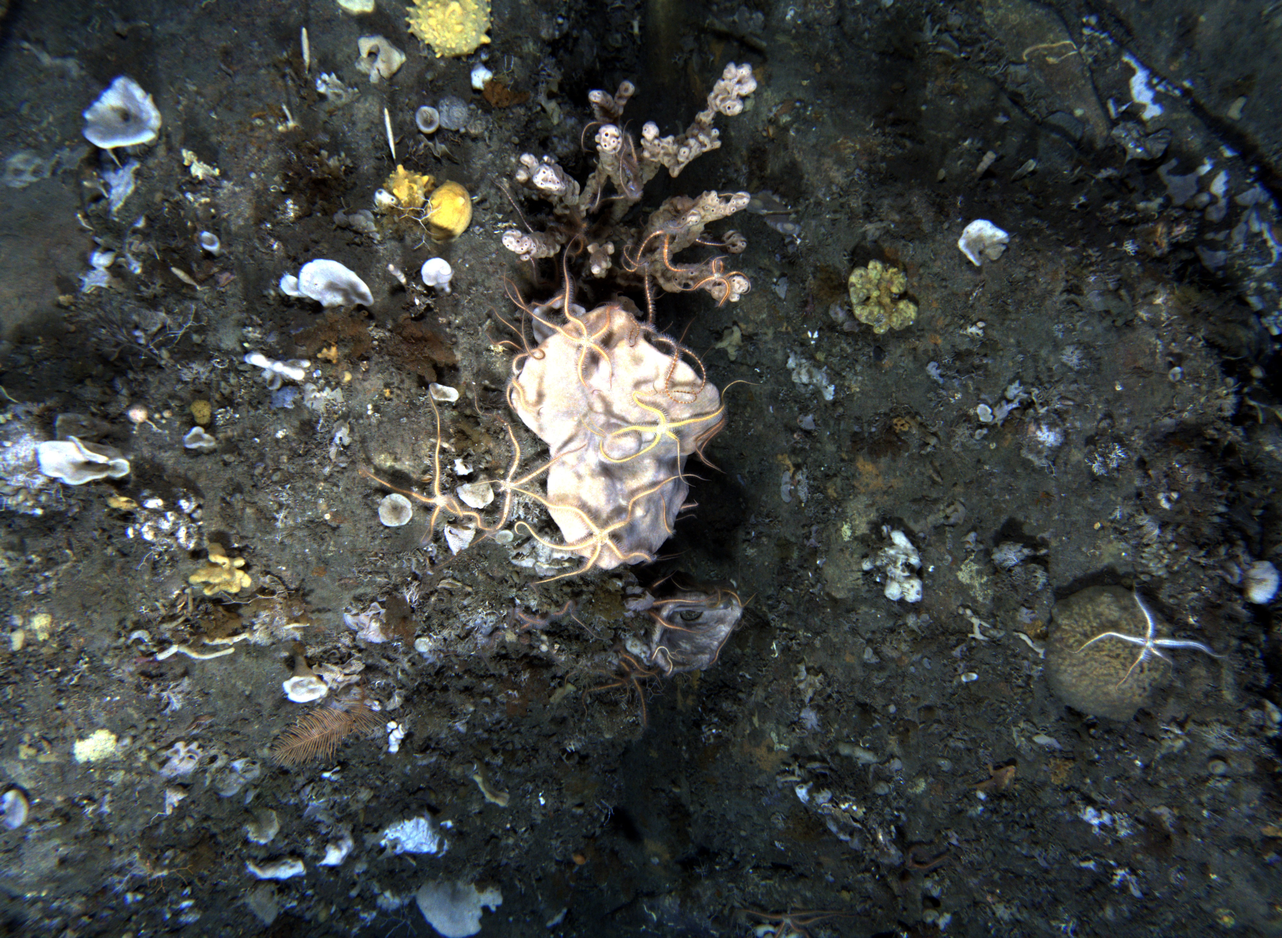Brachionichthyidae: (965, 762, 1022, 794)
